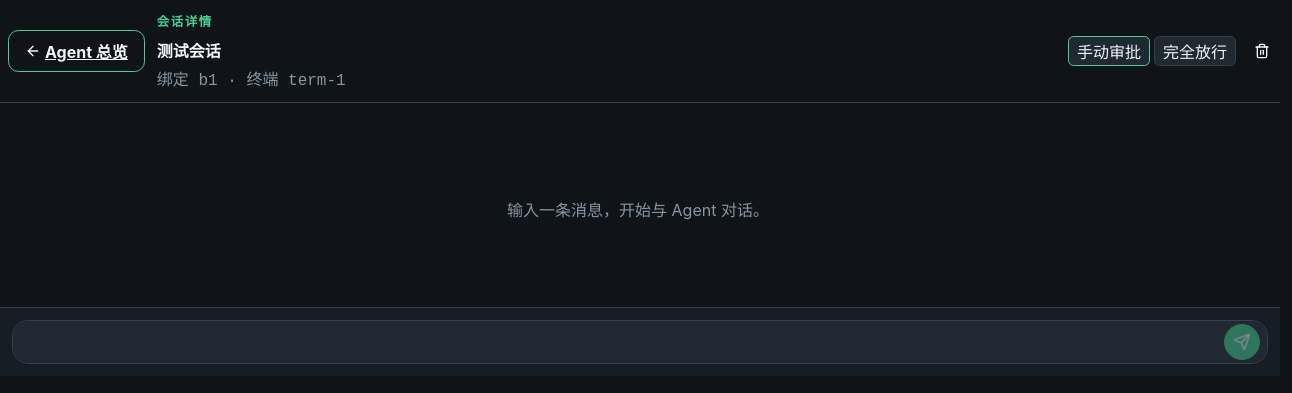
Test: AgentChatView › submits composer text through the ordinary message path
In the text box named "发送给 Agent 的消息": [640, 342] box [12, 320, 1268, 364], type "你好 Agent"
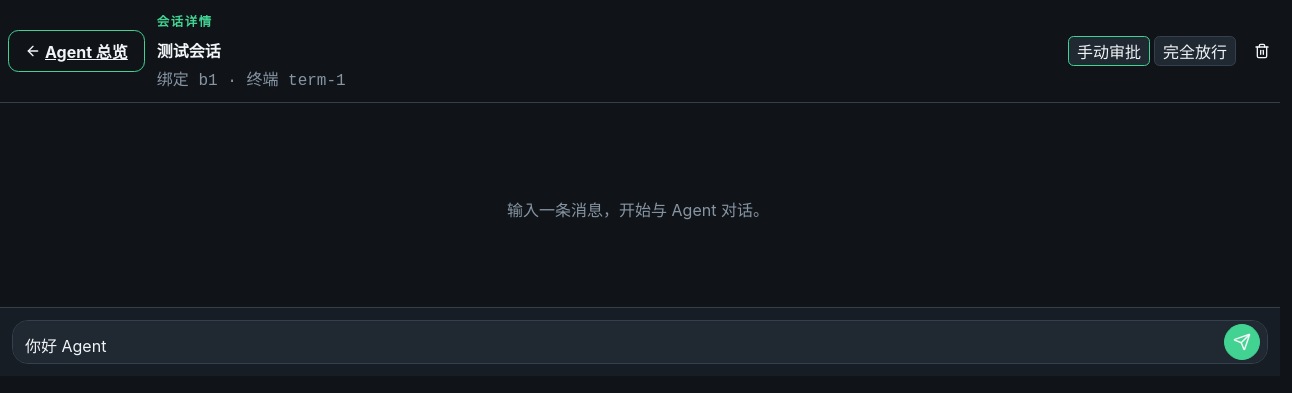
Click the button named "发送消息": [1242, 342] box [1224, 324, 1260, 360]
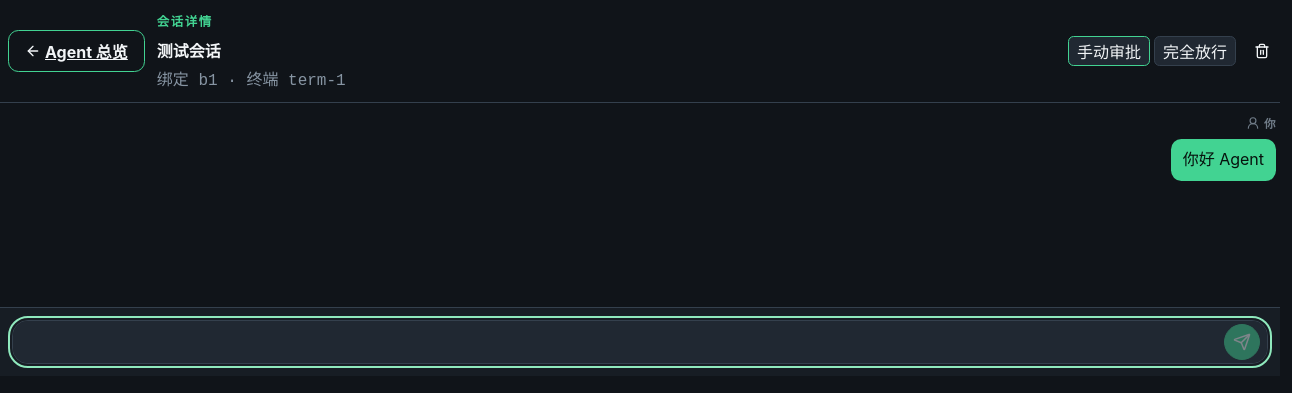
Now the number of elements with class "agent-message--user" is 1, box [1171, 115, 1276, 181]
Now the element with class "agent-message--user" shows "你好 Agent", box [1183, 149, 1264, 169]
Now the text box named "发送给 Agent 的消息" is empty, box [12, 320, 1268, 364]
